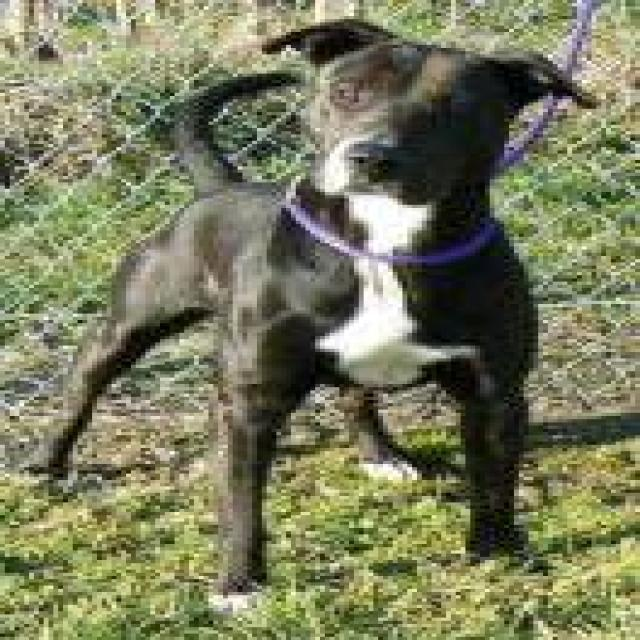dog: (19, 13, 602, 614)
